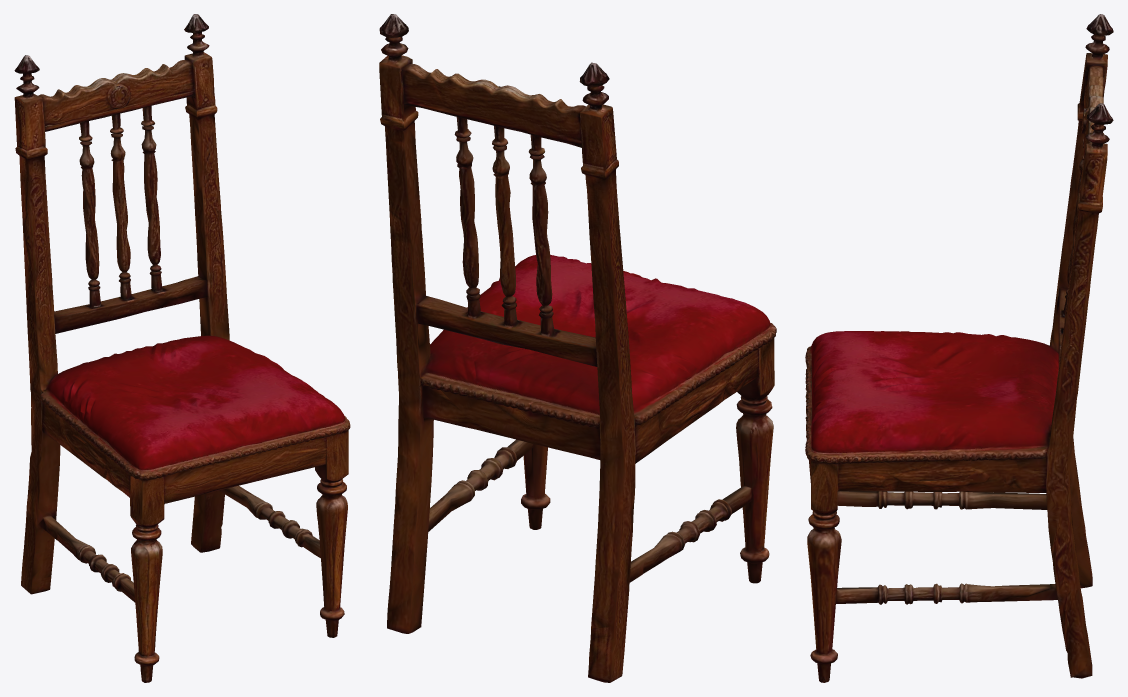
Rendered from silla.glb.
The picture shows the model from 3 angles, left to right: view 1: azimuth 30°, elevation 25°; view 2: azimuth 150°, elevation 25°; view 3: azimuth 270°, elevation 25°; orthographic projection. The views are drawn at different scales.
Visible parts, largest first — view 1: tripo_node_d7fa89a3-3d08-4b6b-ba99-99ac97602f25; view 2: tripo_node_d7fa89a3-3d08-4b6b-ba99-99ac97602f25; view 3: tripo_node_d7fa89a3-3d08-4b6b-ba99-99ac97602f25.
Part boxes in pixels (x1,y1,x2,y2): tripo_node_d7fa89a3-3d08-4b6b-ba99-99ac97602f25: (14,14,350,682); tripo_node_d7fa89a3-3d08-4b6b-ba99-99ac97602f25: (379,14,776,682); tripo_node_d7fa89a3-3d08-4b6b-ba99-99ac97602f25: (805,14,1113,682).
Size of the model in its own units: 0.4315 by 1 by 0.489.
1 material, 1 textured.
